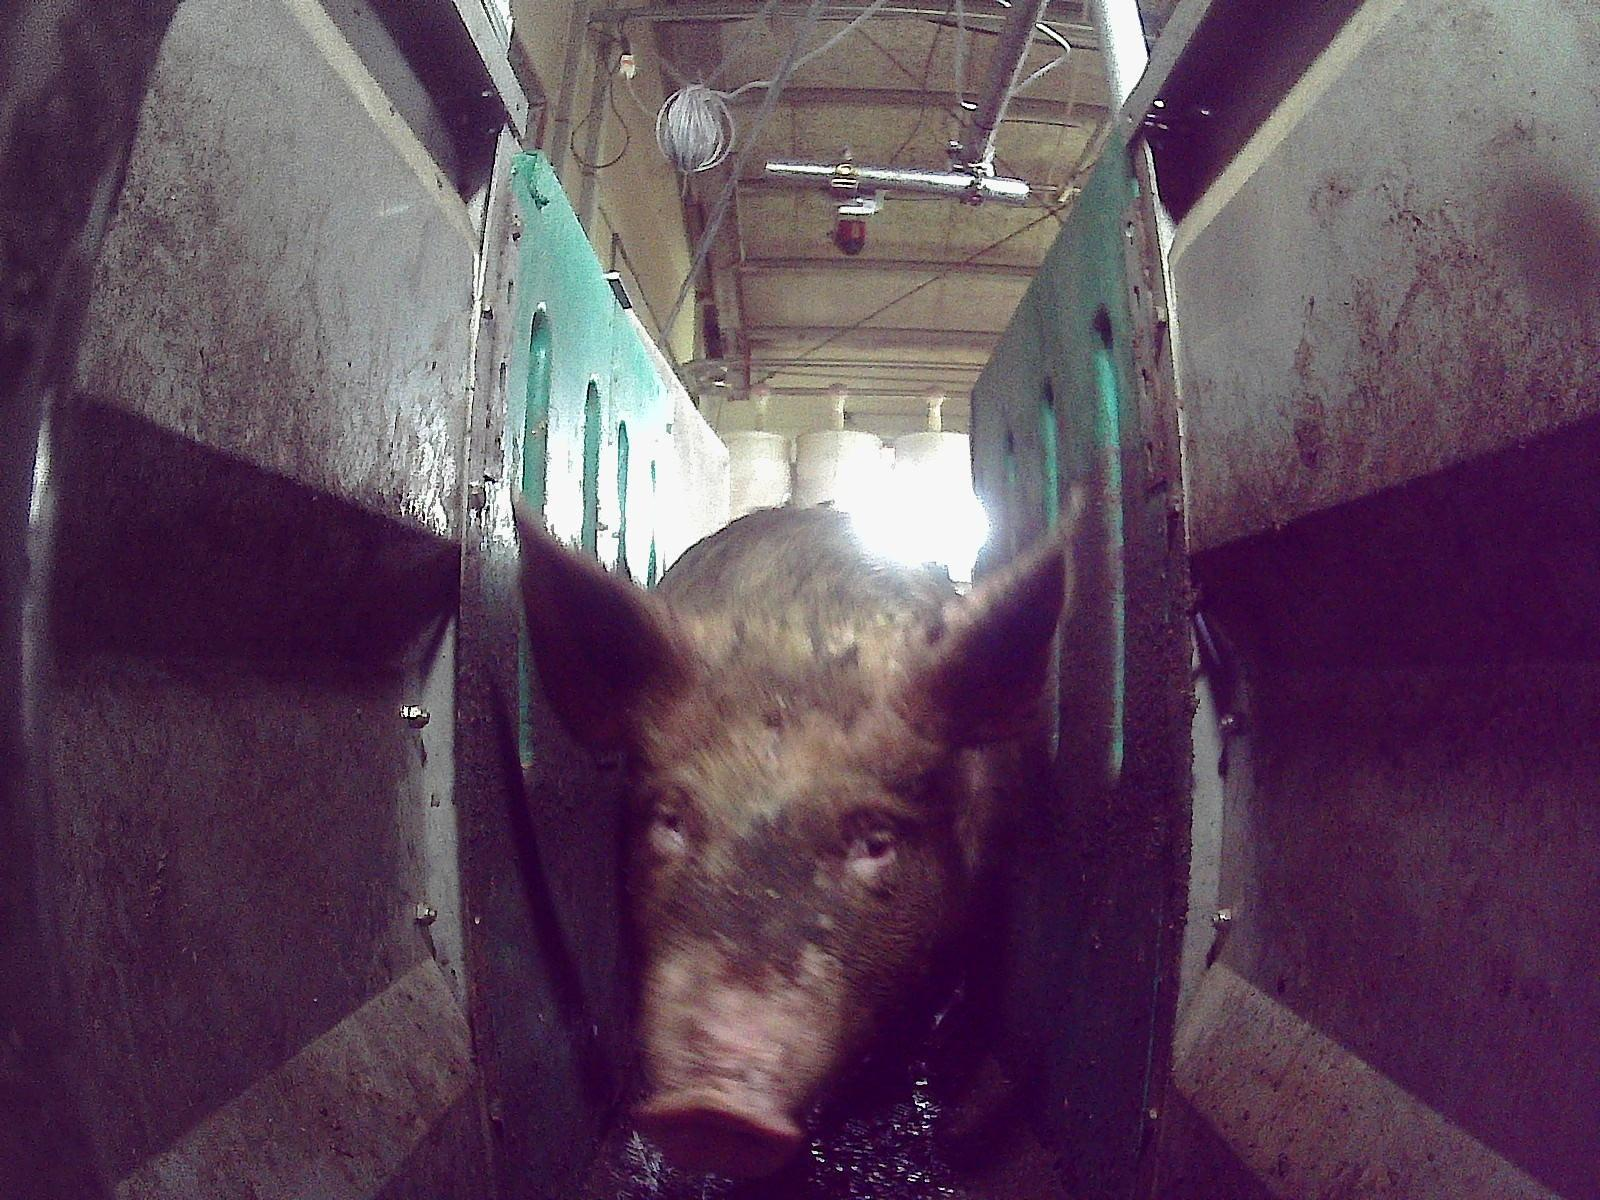Face: (622, 667, 965, 1178)
